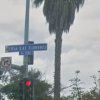Palm tree: (36, 0, 74, 92)
